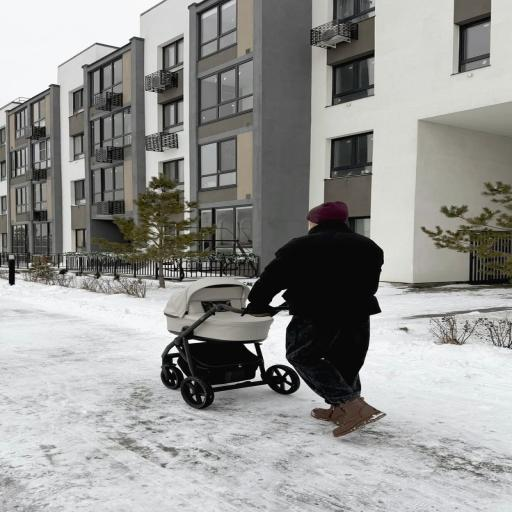laptop: (246, 202, 386, 436)
shelf: (0, 279, 511, 512)
wheelchair: (160, 278, 299, 409)
